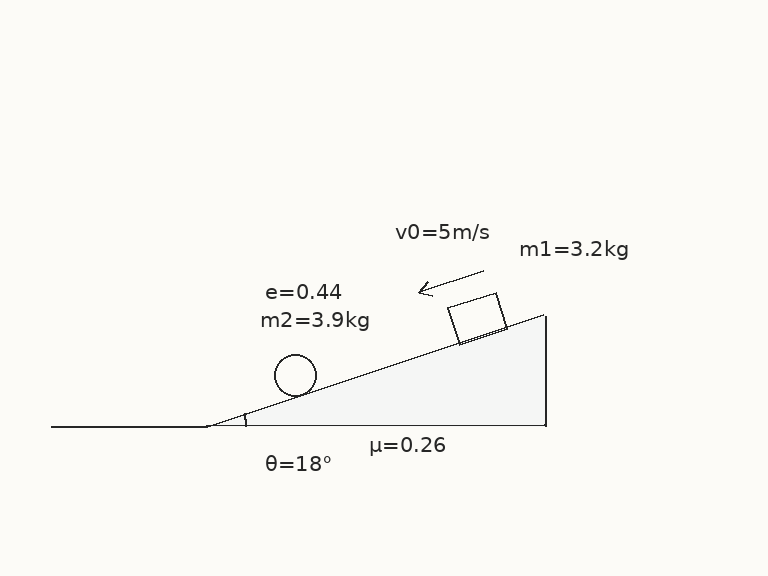ball: (272, 352, 318, 398)
block: (446, 290, 510, 346)
ramp: (204, 314, 547, 428)
